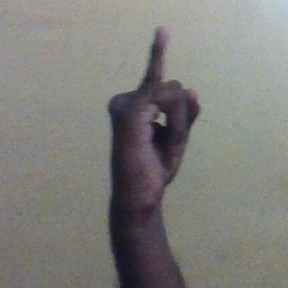I: (105, 25, 206, 192)
